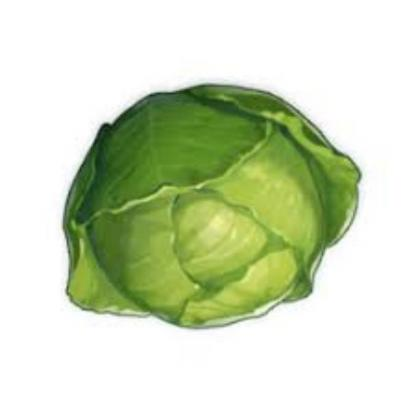cabbage: (34, 63, 381, 354)
